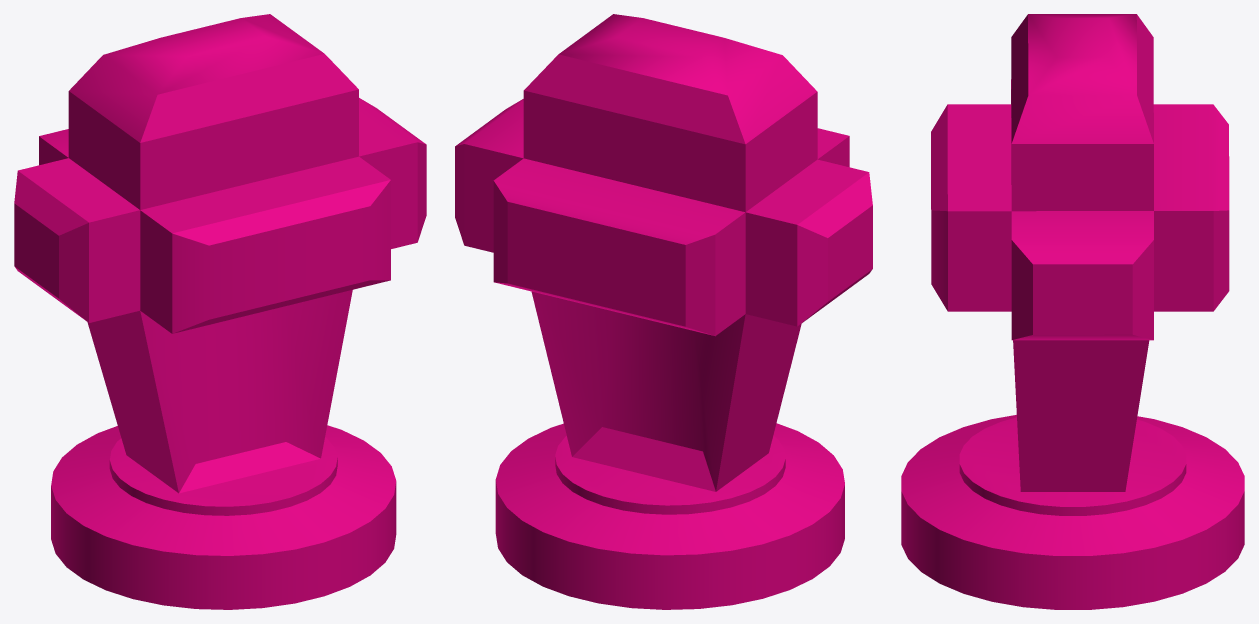
Rendered from stronghold.glb.
The picture shows the model from 3 angles, left to right: view 1: azimuth 30°, elevation 25°; view 2: azimuth 150°, elevation 25°; view 3: azimuth 270°, elevation 25°; orthographic projection.
Visible parts, largest first — view 1: Stronghold; view 2: Stronghold; view 3: Stronghold.
Boxes of the visible parts, bbox=[...] form: Stronghold: bbox=[14, 14, 426, 609]; Stronghold: bbox=[455, 14, 872, 609]; Stronghold: bbox=[901, 14, 1244, 609].
Bounding box in the file's own units: 1.71 × 2.22 × 1.39.
